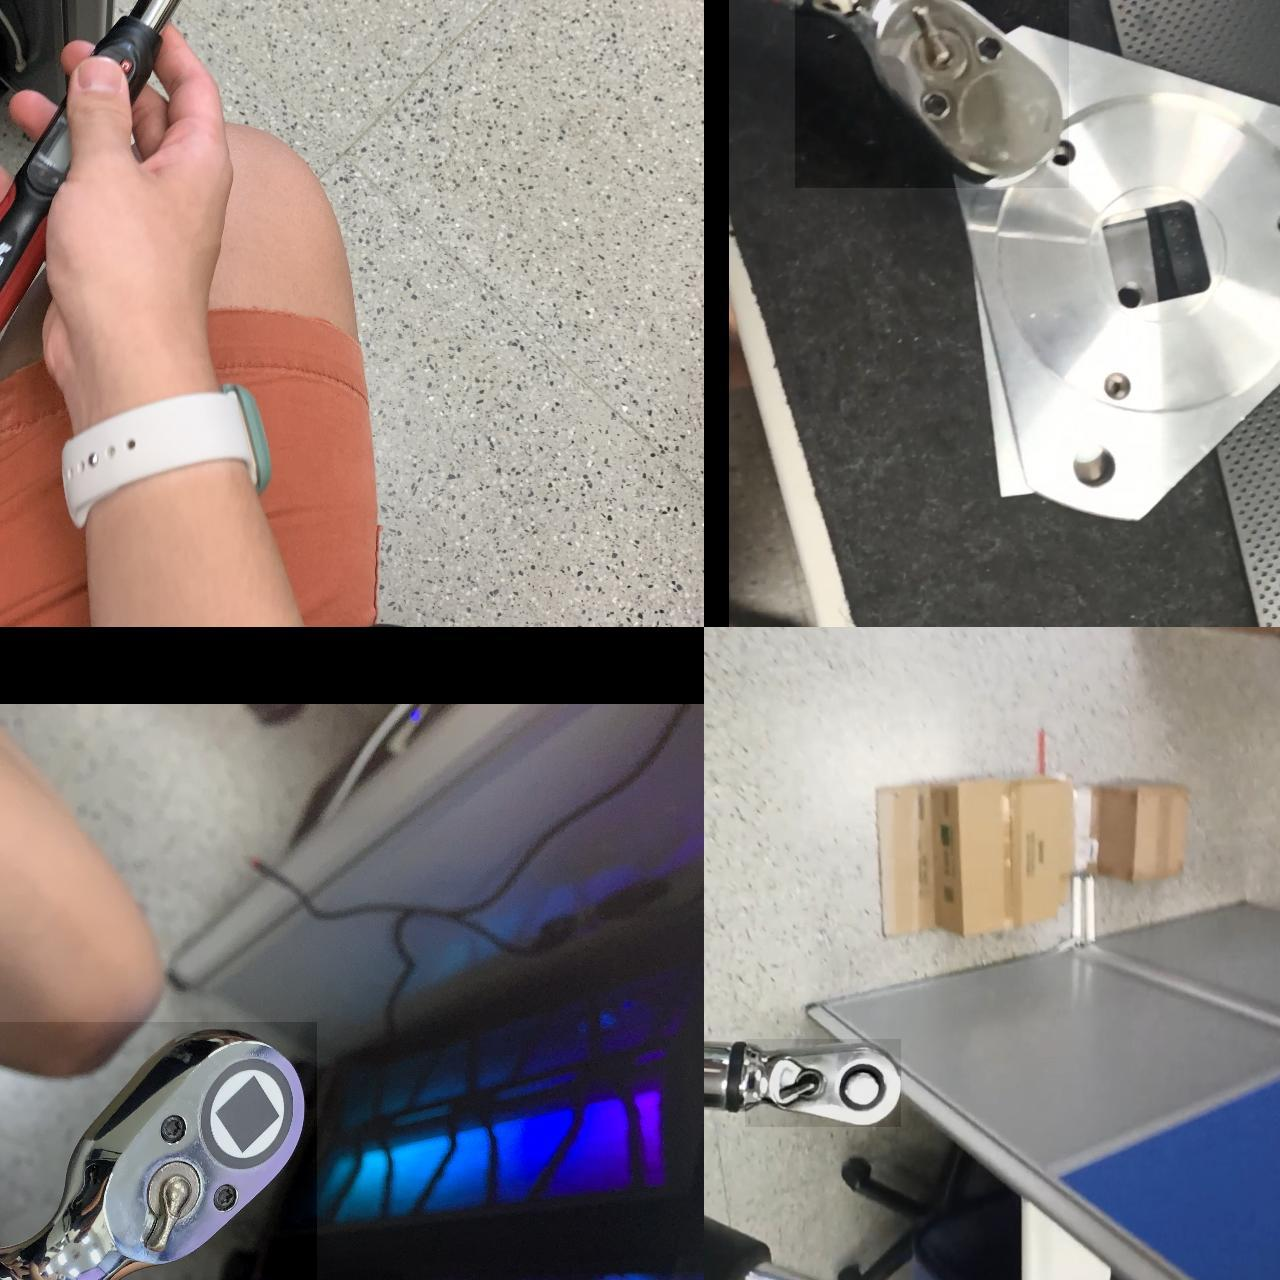Tool: (0, 1022, 316, 1280), (794, 0, 1068, 188), (744, 1039, 900, 1126)
